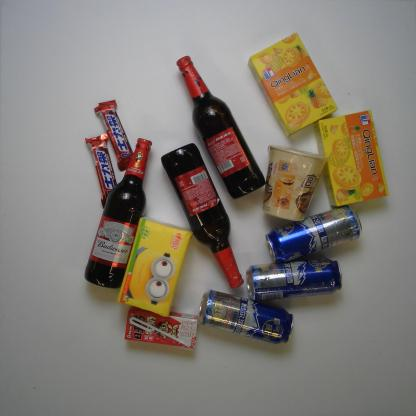Alcohol: (176, 53, 268, 201), (160, 142, 246, 290), (83, 135, 152, 288), (263, 203, 364, 265), (198, 288, 294, 345), (244, 257, 344, 302)
Chocolate: (92, 98, 135, 173), (83, 132, 120, 210)
Dessert: (248, 32, 341, 138), (313, 108, 391, 209)
Instant Noodles: (258, 143, 332, 224)
Milk: (123, 306, 200, 350)
Tissue: (115, 215, 194, 318)
